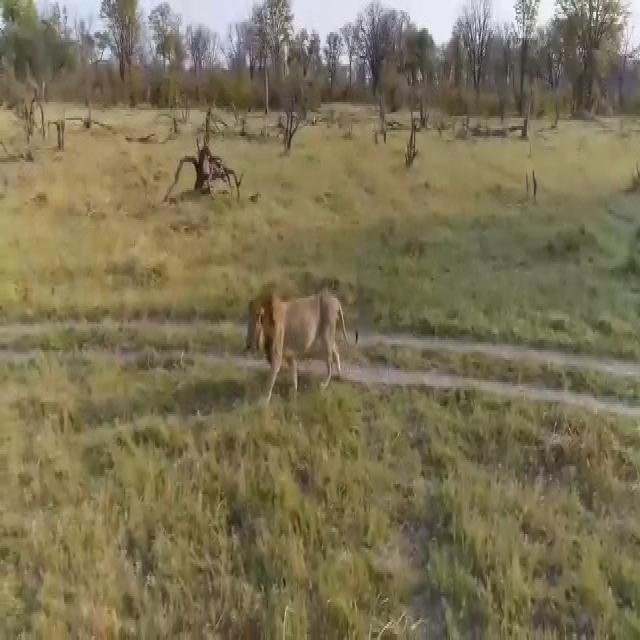Lion: (247, 286, 358, 405)
